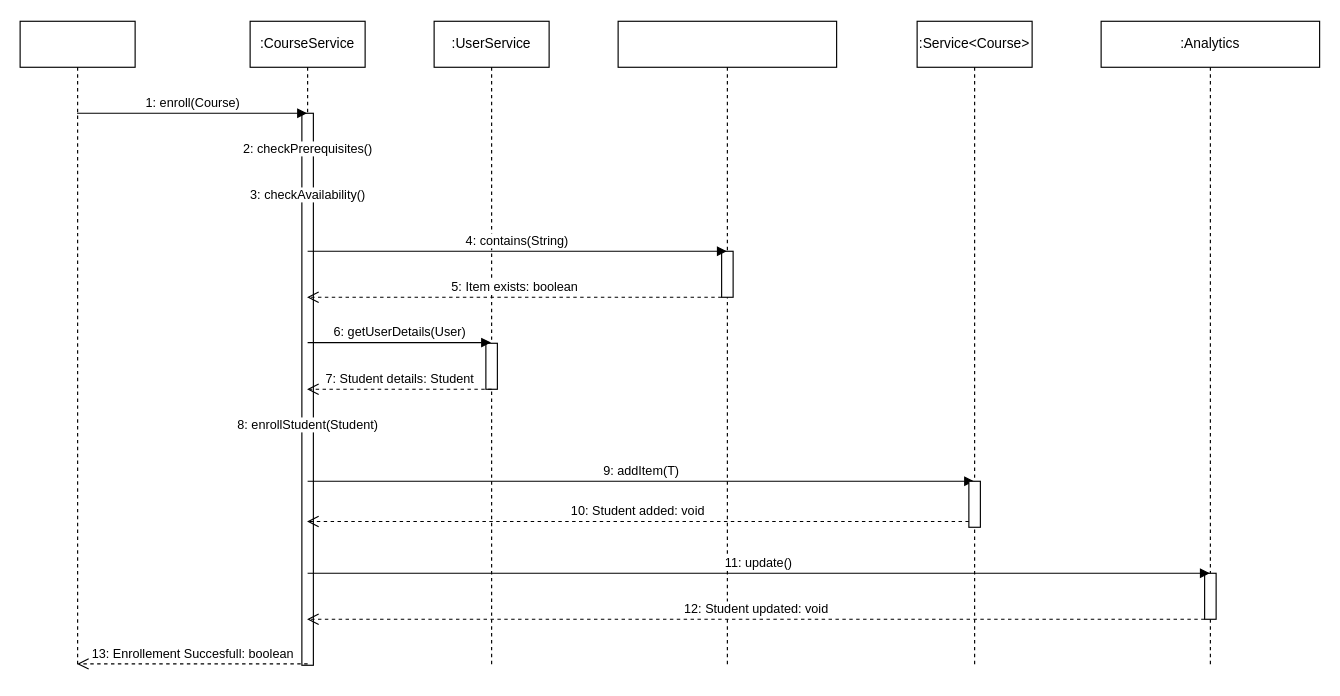
Some shapes in this 1340 by 696 pixel diagram are drawn without their labels. Here are the shapes that lost their labels. From the top down, the box of each, then its label:
(19, 20, 135, 665): :Student
(617, 20, 837, 665): :JsonDatabaseManager<Course>
